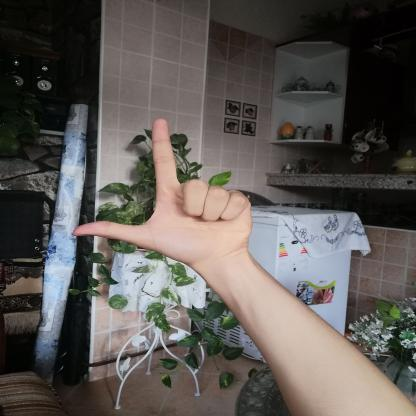LAAM: (59, 110, 263, 272)
